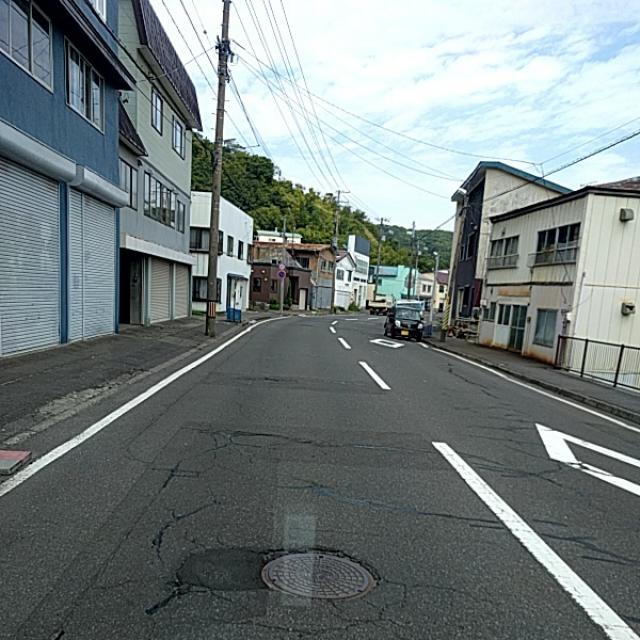pothole: (200, 511, 484, 622)
